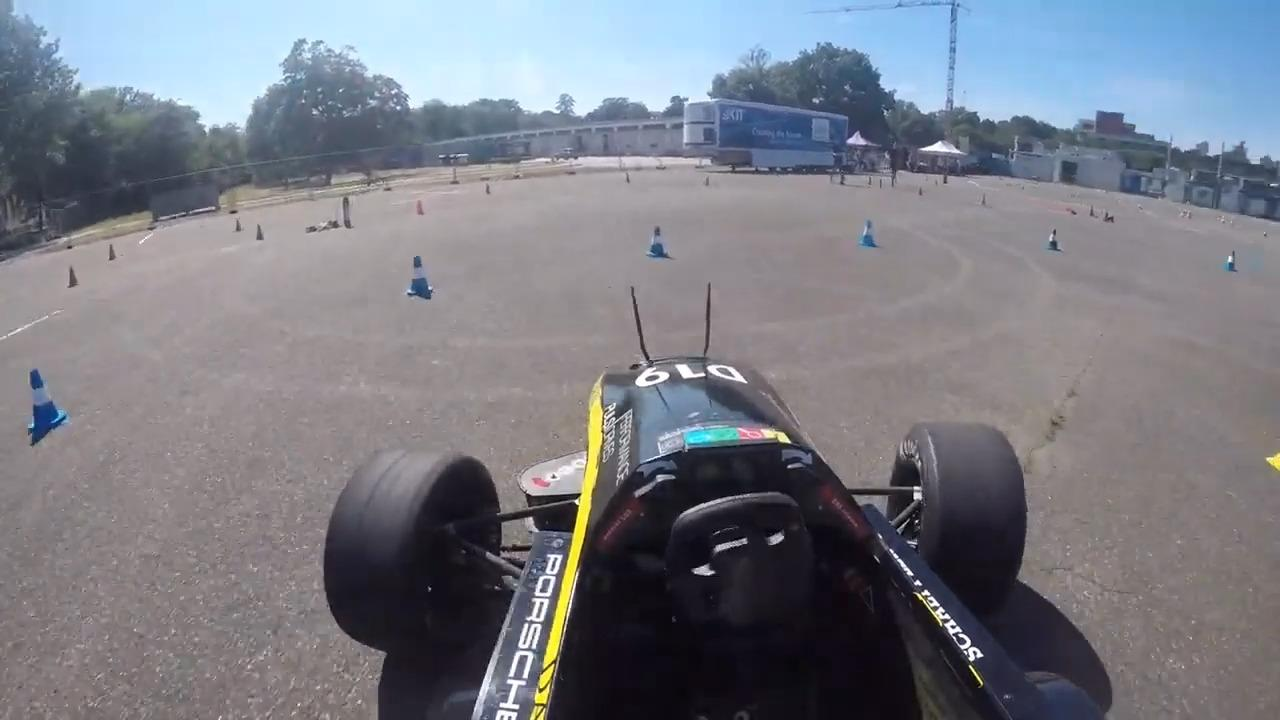blue_cone: (28, 366, 69, 435), (405, 255, 435, 297), (645, 224, 669, 258), (859, 219, 878, 247)
